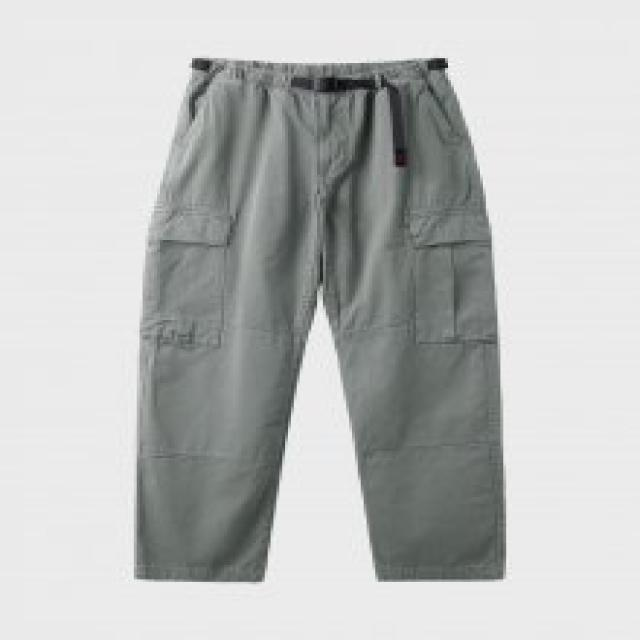long-pants: (133, 51, 508, 582)
